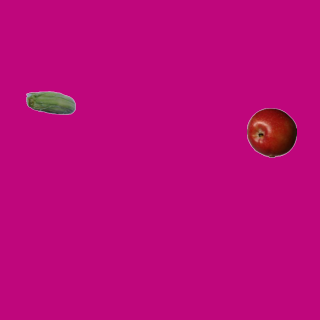Apple Braeburn: (246, 107, 296, 157)
Corn Husk: (25, 79, 75, 129)
